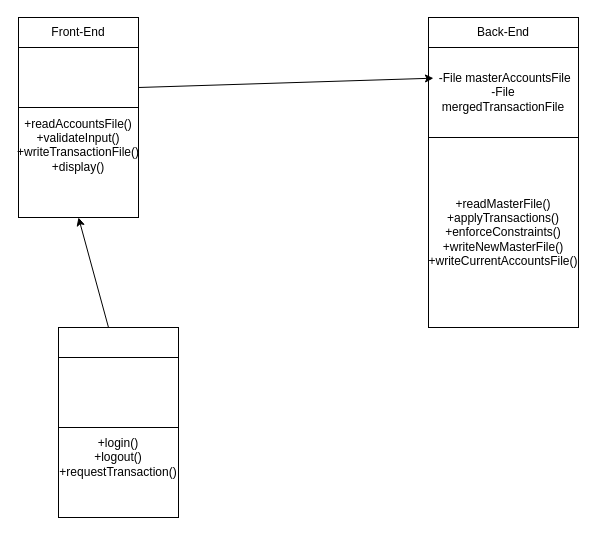
This 596x535 diagram has some shape labels left out. The shapes that lost their labels are listed below. From the top down, each one's centre as x and y in pixels, then its label:
pixel 78 77: -User currentUser
pixel 118 342: User
pixel 118 392: -float balance -int uid -boolean session
